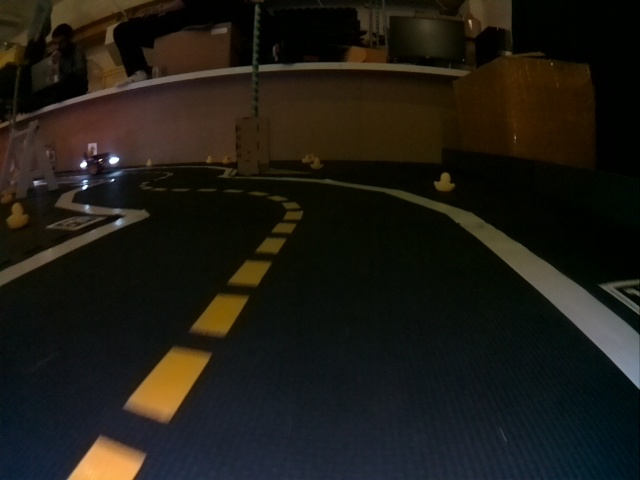Duckie: (7, 204, 28, 227), (435, 173, 455, 191), (310, 157, 323, 167), (222, 155, 232, 164), (207, 157, 215, 165)
Duckiebot: (82, 152, 118, 175)
QR code: (45, 216, 105, 230)
